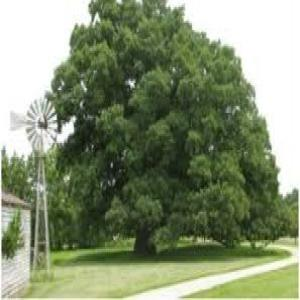Tree: (47, 0, 279, 260)
